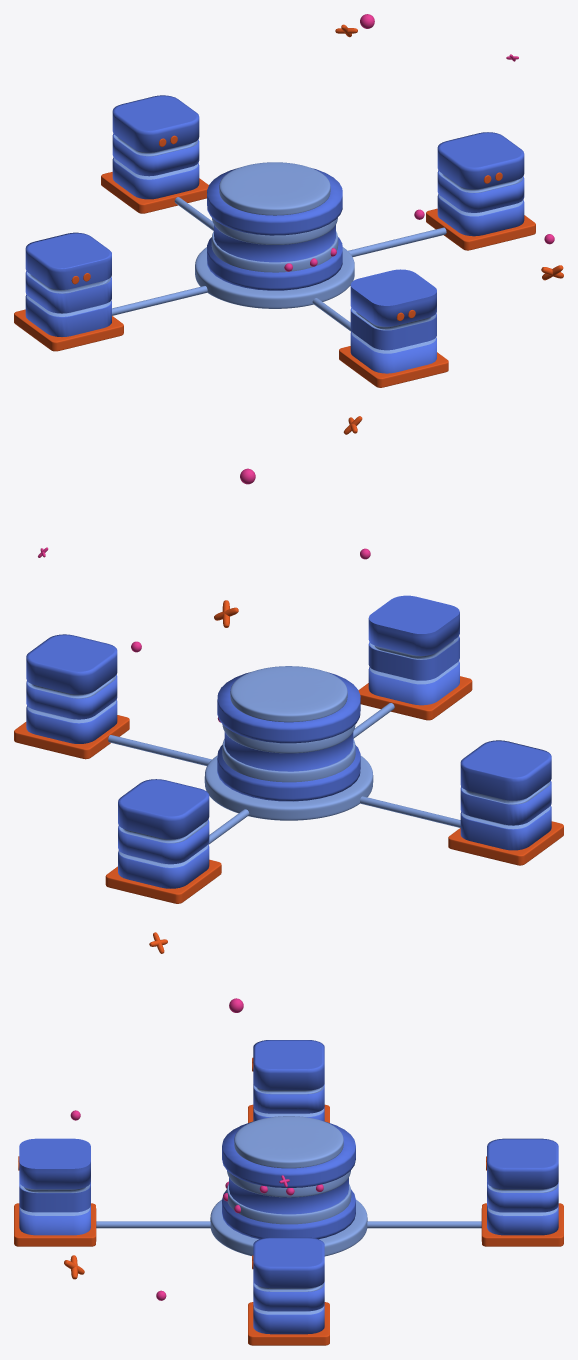
File: blockchain-3d-animated-icon-292593565132.glb
3 views of the same model, one above another, from view 1: azimuth 30°, elevation 25°; view 2: azimuth 150°, elevation 25°; view 3: azimuth 270°, elevation 25° (orthographic). The views are drawn at different scales.
Visible parts, largest first — view 1: data center.006, data.001, data, data.007, data.005, data center.008, data center.007, data.002, data.008, data.004, data center.010, data.003 (+3 smaller); view 2: data center.006, data.007, data.001, data.005, data, data center.008, data center.007, data.003, data.008, data.004, data.002, data center.010 (+3 smaller); view 3: data center.006, data.001, data.005, data, data.007, data center.008, data center.007, data center.010, data.002, data.003, data.004, data center.009 (+2 smaller).
Boxes of the visible parts, box(x1,y1,x2,y2) form: data center.006: box(207, 168, 342, 290); data.001: box(112, 95, 199, 199); data: box(437, 132, 524, 236); data.007: box(25, 232, 111, 336); data.005: box(350, 269, 436, 373); data center.008: box(219, 162, 330, 215); data center.007: box(195, 247, 354, 308); data.002: box(339, 346, 448, 387); data.008: box(14, 309, 123, 351); data.004: box(426, 208, 535, 250); data center.010: box(211, 231, 338, 272); data.003: box(101, 172, 208, 213); data center.006: box(217, 671, 360, 801); data.007: box(460, 740, 551, 850); data.001: box(118, 779, 209, 888); data.005: box(368, 595, 459, 705); data: box(26, 634, 117, 743); data center.008: box(230, 666, 347, 722); data center.007: box(204, 755, 373, 820); data.003: box(105, 859, 221, 903); data.008: box(448, 821, 563, 865); data.004: box(14, 715, 129, 759); data.002: box(358, 676, 472, 720); data center.010: box(222, 739, 355, 782); data center.006: box(222, 1121, 355, 1239); data.001: box(486, 1138, 558, 1235); data.005: box(18, 1138, 90, 1235); data: box(252, 1237, 324, 1334); data.007: box(252, 1040, 324, 1121); data center.008: box(234, 1116, 343, 1168); data center.007: box(210, 1199, 367, 1256); data center.010: box(223, 1181, 351, 1224); data.002: box(14, 1203, 96, 1246); data.003: box(481, 1203, 563, 1246); data.004: box(248, 1302, 329, 1345); data center.009: box(227, 1171, 350, 1197).
Bounding box in the file's own units: 8.23 × 4.92 × 8.23.
